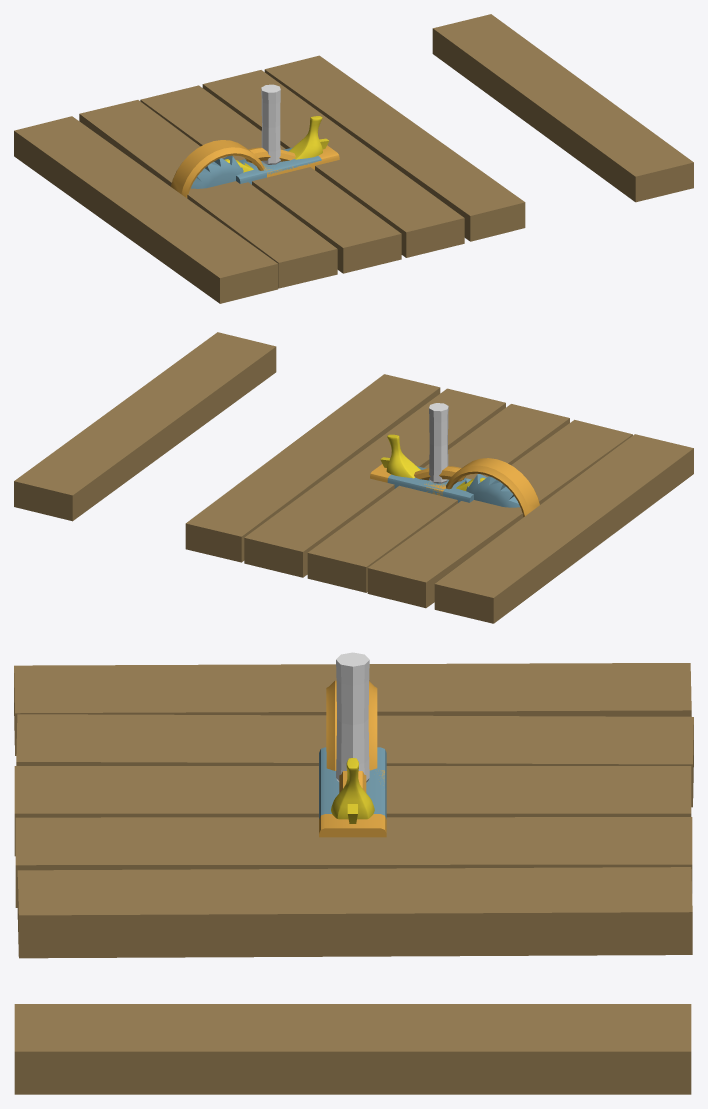
File: SM_Banana_1.fbx
3 views of the same model, one above another, from view 1: azimuth 30°, elevation 25°; view 2: azimuth 150°, elevation 25°; view 3: azimuth 270°, elevation 25° (orthographic). The views are drawn at different scales.
Parts seen in each view (by area): view 1: Cube.004, Plank0, Cube.005, Cube.003, Cube.002, Cube, SawBody, Pen, SawBlade, Cube.001, Banana1.001; view 2: Plank0, Cube.004, Cube.005, Cube.003, Cube.002, Cube, SawBody, Pen, SawBlade, Cube.001, Banana1.001; view 3: Plank0, Cube.005, Cube.002, Cube.004, Cube.003, Cube, Pen, SawBody, Cube.001, Banana1.001.
Boxes of the visible parts, x1,y1,x2,y2 form: Cube.004: (14,116,278,303); Plank0: (432,14,693,202); Cube.005: (264,55,525,241); Cube.003: (79,100,337,288); Cube.002: (202,70,464,257); Cube: (140,85,401,273); SawBody: (171,140,339,198); Pen: (261,84,280,164); SawBlade: (191,155,244,188); Cube.001: (236,147,321,184); Banana1.001: (224,116,322,172); Plank0: (14,332,276,521); Cube.004: (434,434,693,623); Cube.005: (185,374,440,562); Cube.003: (367,419,632,608); Cube.002: (244,388,505,577); Cube: (307,404,569,592); SawBody: (370,458,539,516); Pen: (429,403,448,483); SawBlade: (465,474,519,507); Cube.001: (387,466,473,502); Banana1.001: (386,434,485,490); Plank0: (14,1004,691,1094); Cube.005: (17,867,692,958); Cube.002: (15,817,692,907); Cube.004: (14,663,691,755); Cube.003: (16,714,693,807); Cube: (14,766,691,856); Pen: (336,652,369,782); SawBody: (319,680,386,837); Cube.001: (319,747,386,818); Banana1.001: (331,758,374,819).
Bounding box in the file's own units: 817 × 217 × 604.
